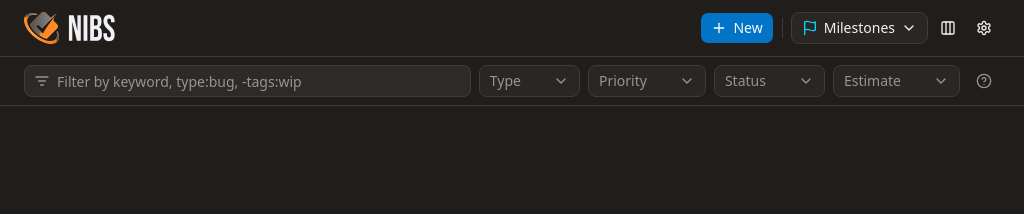
Test case: Toolbar › opens dropdown with all five view levels when the control is clicked
Click the button with aria-label "Group by" at point(859, 28), box [791,12,928,44]
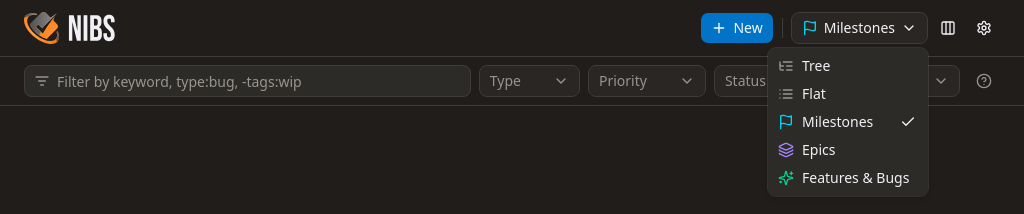
Now the number of menu items is 5, box [778,56,830,75]; [778,84,826,103]; [772,108,924,136]; [778,140,835,159]; [772,164,924,192]
Now the menu item "Tree" is shown, box [778,56,830,75]
Now the menu item "Flat" is shown, box [778,84,826,103]
